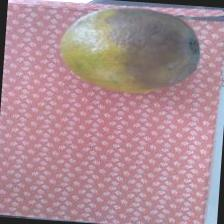Orange Rotten: (44, 0, 206, 106)
